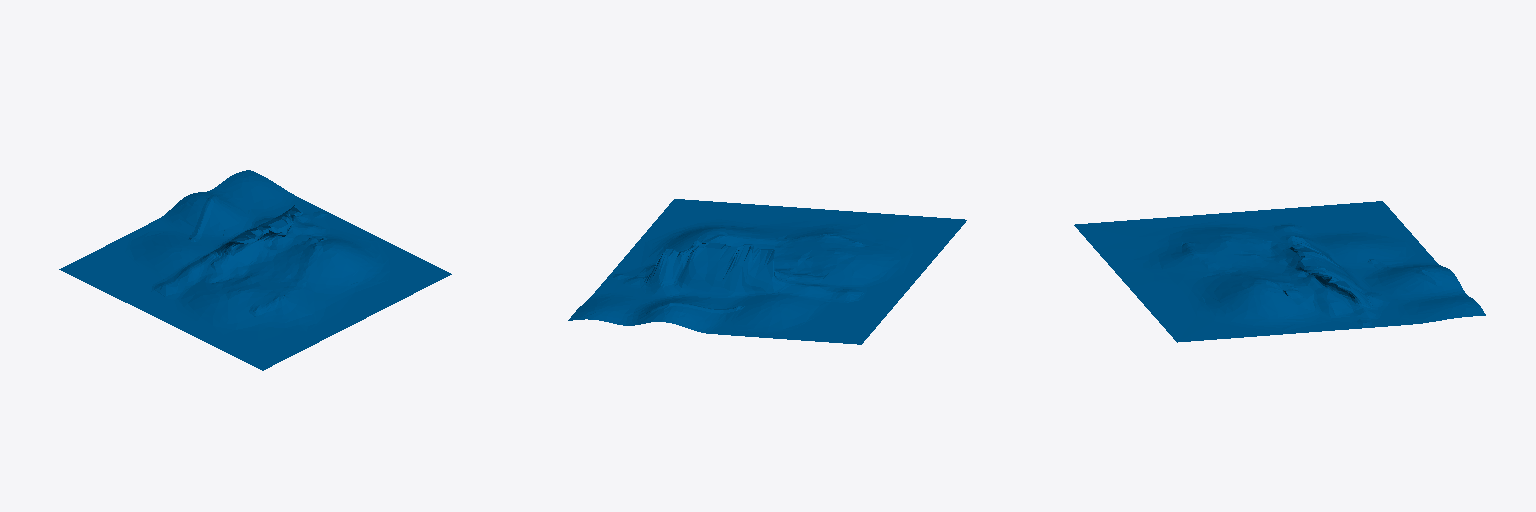
File: Wave.obj
The picture shows the model from 3 angles: view 1: azimuth 30°, elevation 25°; view 2: azimuth 150°, elevation 25°; view 3: azimuth 270°, elevation 25°; orthographic projection.
Visible parts, largest first — view 1: Plane007; view 2: Plane007; view 3: Plane007.
Part boxes in pixels (x1,y1,x2,y2): Plane007: (59, 170, 451, 370); Plane007: (568, 199, 966, 344); Plane007: (1074, 201, 1485, 342).
Bounding box in the file's own units: 3564014 × 370579 × 4396610.